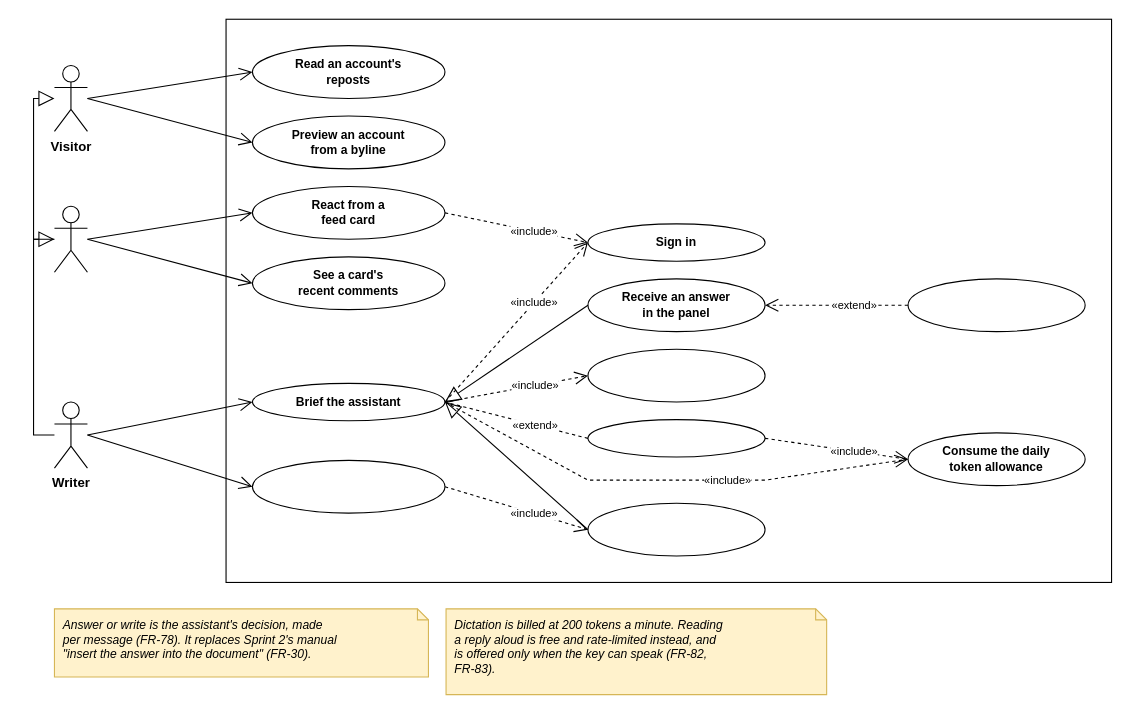
Image size: 1131x714. Some labels were removed from this diagram. Here are the shapes that lost their labels. From the top down, the box of each, then its label:
(53, 205, 87, 272): Reader
(907, 278, 1085, 332): Hear the reply read aloud
(587, 348, 765, 402): Follow the live pipeline steps
(587, 419, 765, 457): Dictate the brief
(251, 459, 445, 513): Keep or discard the written text
(587, 502, 765, 556): Have text written into the document
